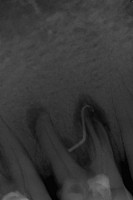Dental Caries: (59, 94, 112, 171), (24, 103, 47, 145)
